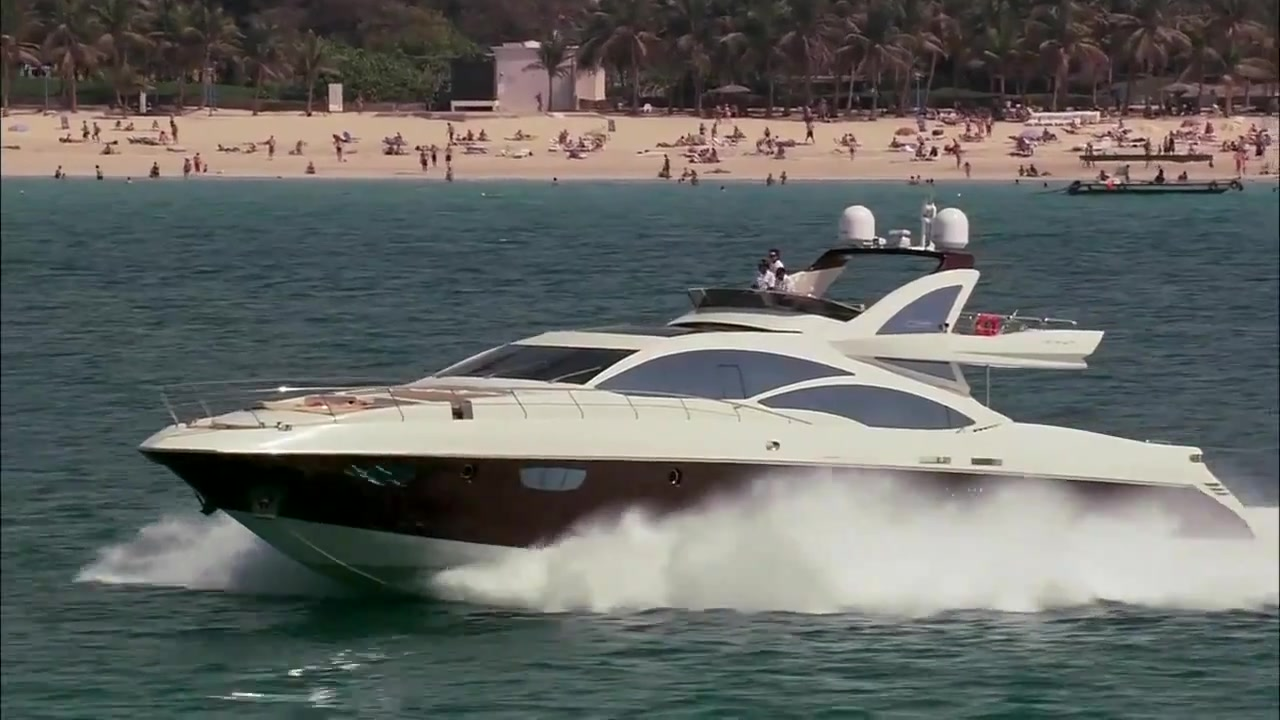boat: (138, 202, 1258, 616), (1068, 179, 1238, 202), (1078, 150, 1219, 167)
